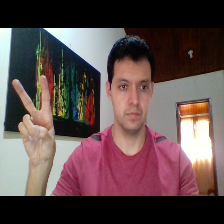KP: (9, 72, 63, 167)
